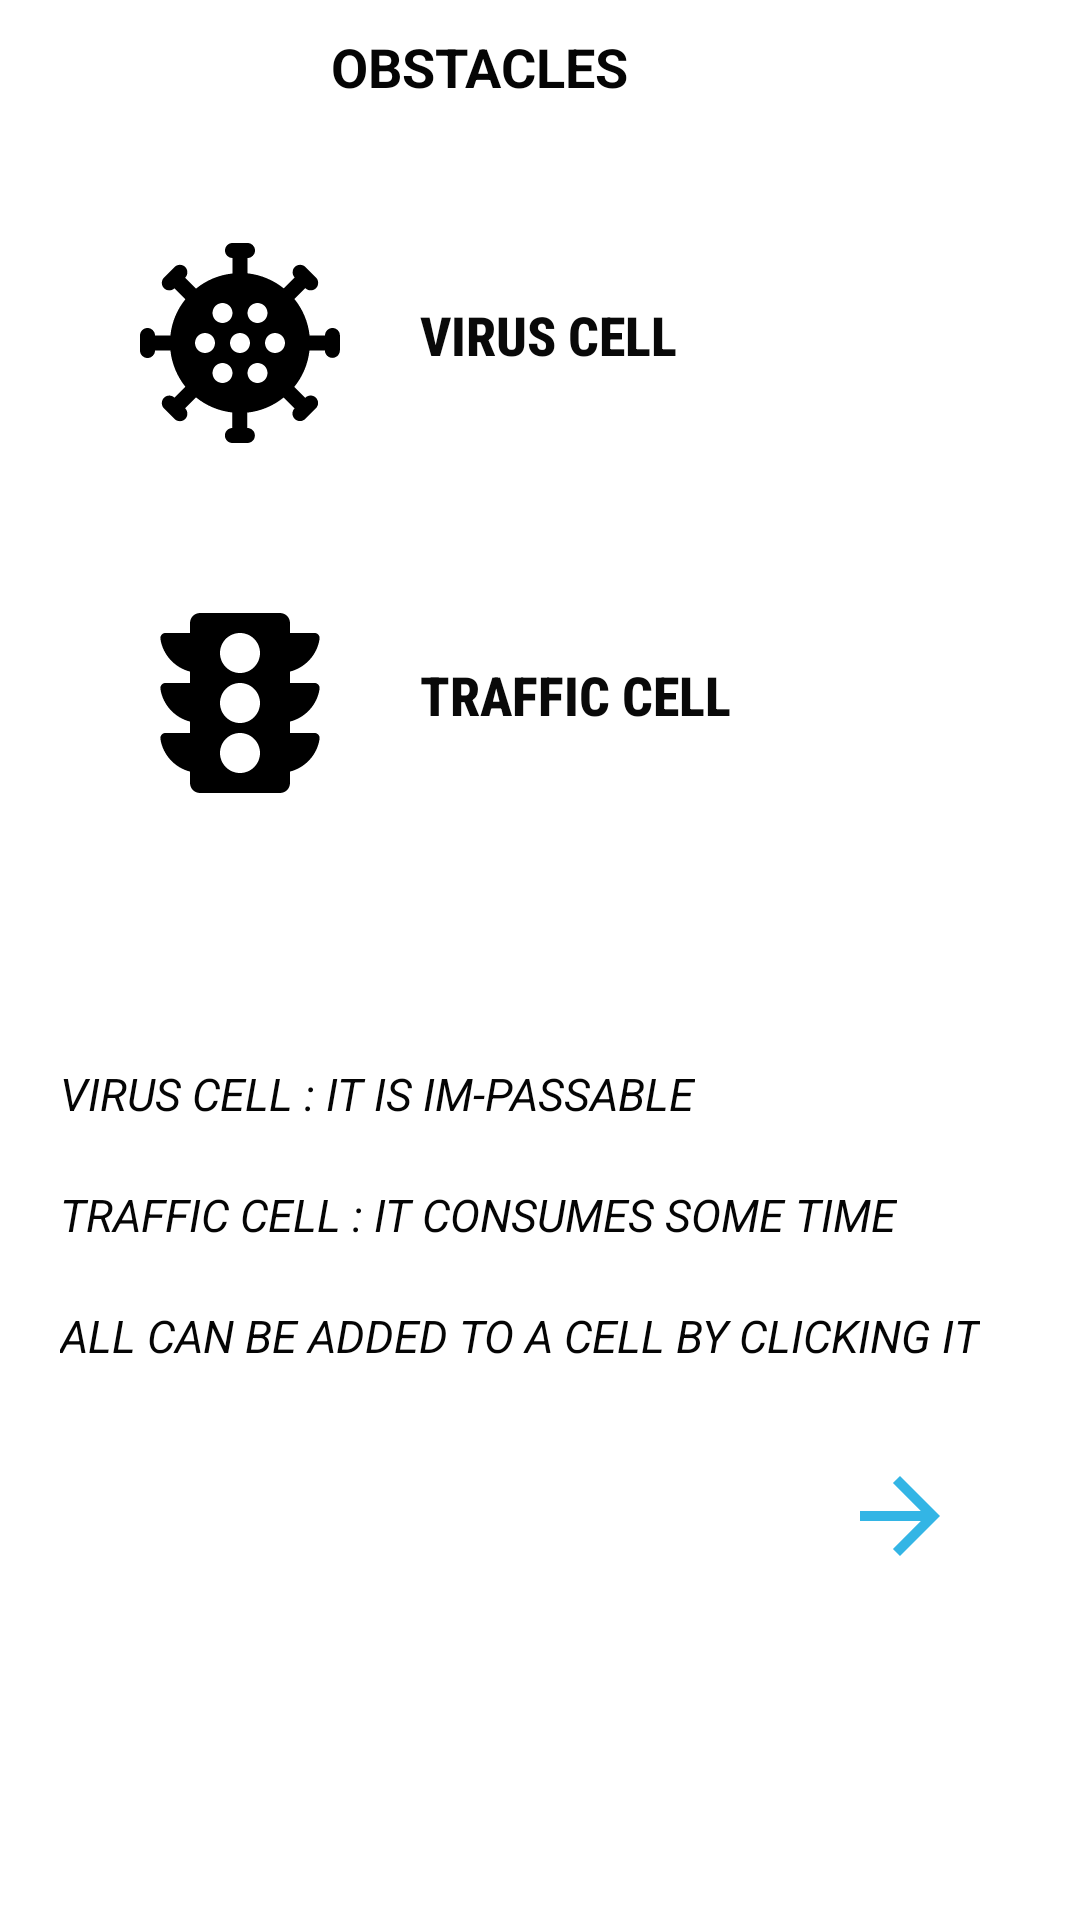

Where icons sit on this 1080px x 1920px app screen, as (left=x1, top=y1, right=x2, bottom=y2):
arrow forward: (left=860, top=1476, right=940, bottom=1556)
